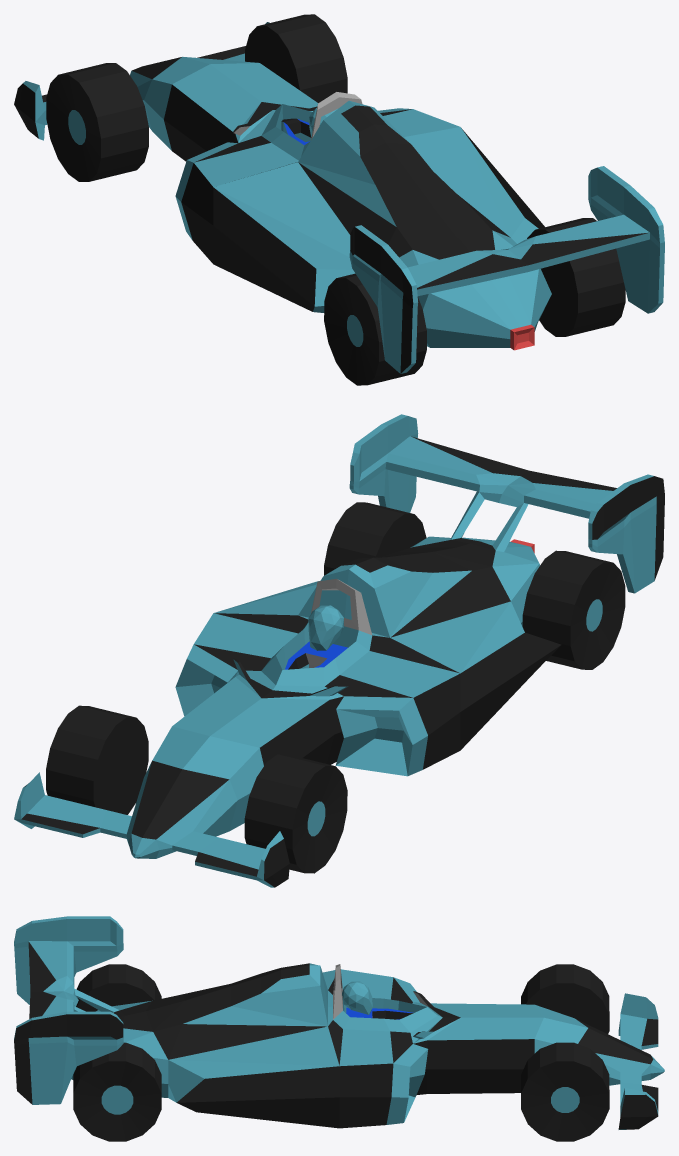
The model's file is f1car.glb.
The picture shows the model from 3 angles, top to bottom: view 1: azimuth 30°, elevation 25°; view 2: azimuth 150°, elevation 25°; view 3: azimuth 270°, elevation 25°; orthographic projection. The views are drawn at different scales.
Visible parts, largest first — view 1: WheelFront.011, WheelFront.001, WheelFront.003, WheelFront.000, WheelFront.002; view 2: WheelFront.011, WheelFront.001, WheelFront.002, WheelFront.000, WheelFront.003; view 3: WheelFront.011, WheelFront.000, WheelFront.003, WheelFront.001, WheelFront.002.
Boxes of the visible parts, x1,y1,x2,y2 form: WheelFront.011: (14, 22, 664, 373); WheelFront.001: (46, 63, 148, 181); WheelFront.003: (527, 218, 625, 336); WheelFront.000: (245, 14, 347, 102); WheelFront.002: (324, 273, 426, 385); WheelFront.011: (14, 414, 664, 887); WheelFront.001: (244, 754, 347, 873); WheelFront.002: (522, 550, 625, 669); WheelFront.000: (46, 705, 148, 814); WheelFront.003: (324, 502, 426, 575); WheelFront.011: (14, 916, 664, 1129); WheelFront.000: (521, 1042, 609, 1141); WheelFront.003: (73, 1042, 161, 1141); WheelFront.001: (521, 964, 609, 1033); WheelFront.002: (76, 964, 161, 1011).
Bounding box in the file's own units: 83.78 × 49.92 × 230.
